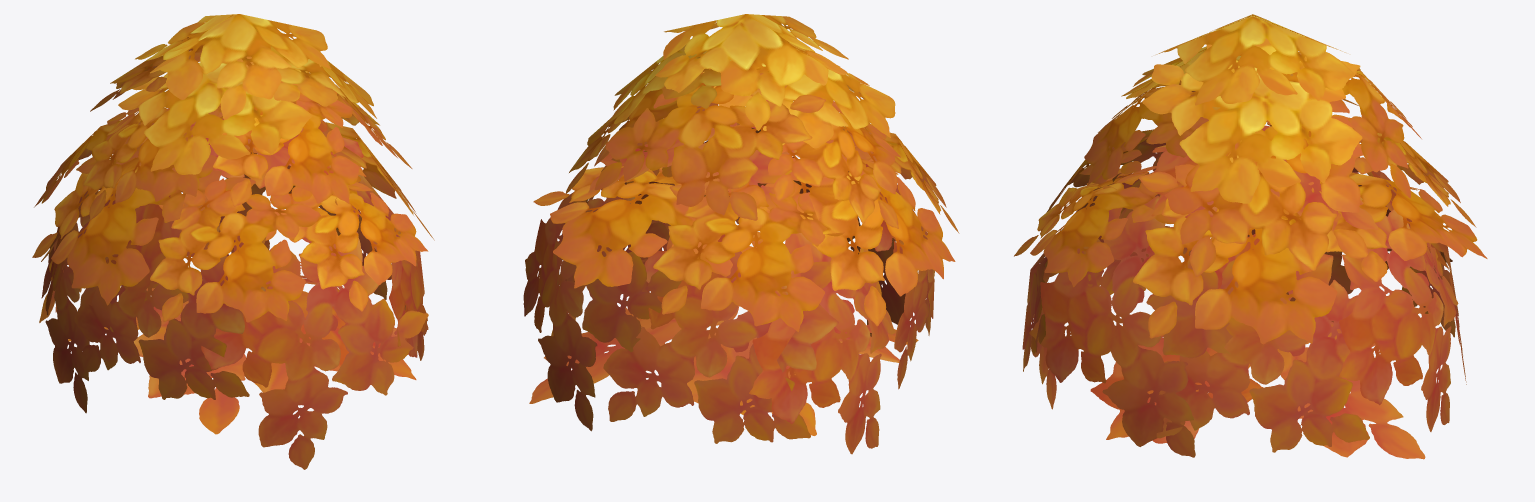
File: Tyj_cdM_014.fbx
3 views of the same model, side by side, from view 1: azimuth 30°, elevation 25°; view 2: azimuth 150°, elevation 25°; view 3: azimuth 270°, elevation 25° (orthographic). The views are drawn at different scales.
Visible parts, largest first — view 1: Tyj_cdM_014; view 2: Tyj_cdM_014; view 3: Tyj_cdM_014.
Part boxes in pixels (bbox=[...]): Tyj_cdM_014: bbox=[32, 14, 434, 469]; Tyj_cdM_014: bbox=[523, 14, 959, 454]; Tyj_cdM_014: bbox=[1014, 14, 1487, 459].
Bounding box in the file's own units: 212 × 214 × 235.
